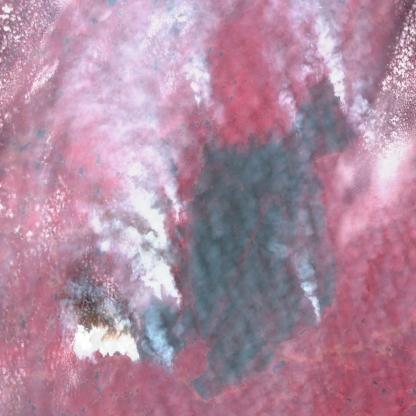fire: (290, 66, 380, 154), (126, 288, 190, 374), (146, 225, 175, 265), (191, 82, 216, 122)
